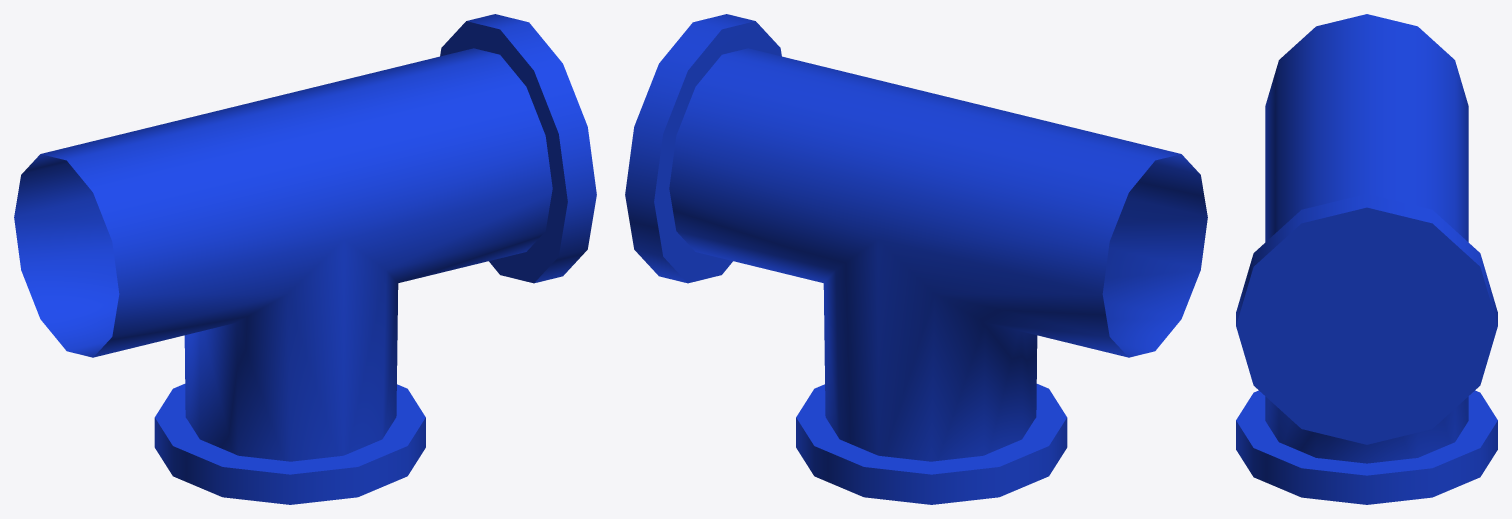
File: pipe8.fbx
3 views of the same model, side by side, from view 1: azimuth 30°, elevation 25°; view 2: azimuth 150°, elevation 25°; view 3: azimuth 270°, elevation 25° (orthographic). The views are drawn at different scales.
Parts seen in each view (by area): view 1: 1.006; view 2: 1.006; view 3: 1.006.
Part boxes in pixels (left/top/right/bottom): 1.006: left=14, top=14, right=596, bottom=504; 1.006: left=625, top=14, right=1207, bottom=504; 1.006: left=1236, top=14, right=1497, bottom=504.
Size of the model in its own units: 3591 by 2725 by 1823.
